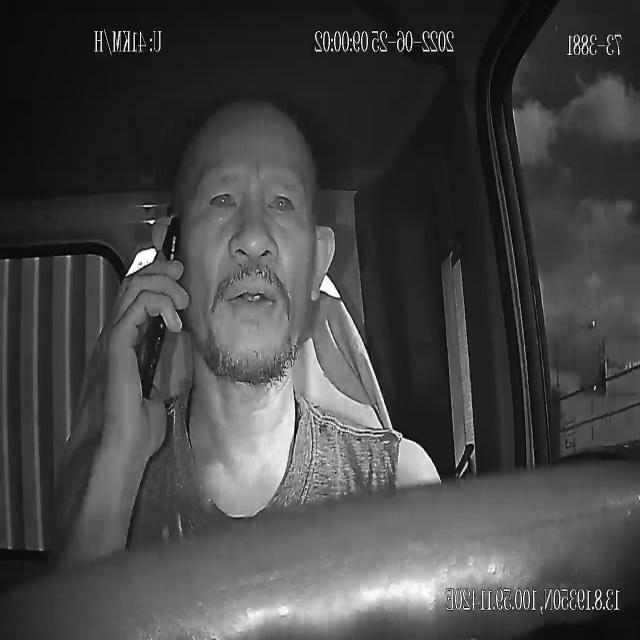phone: (138, 212, 181, 400)
